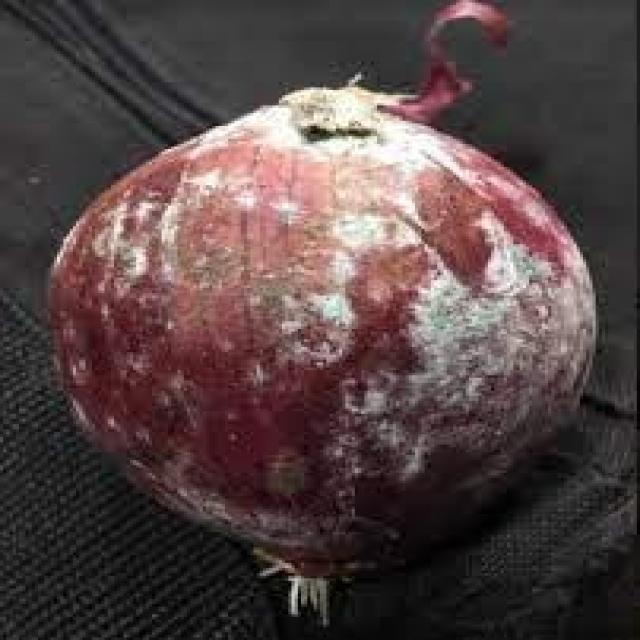Onion: (41, 0, 602, 640)
